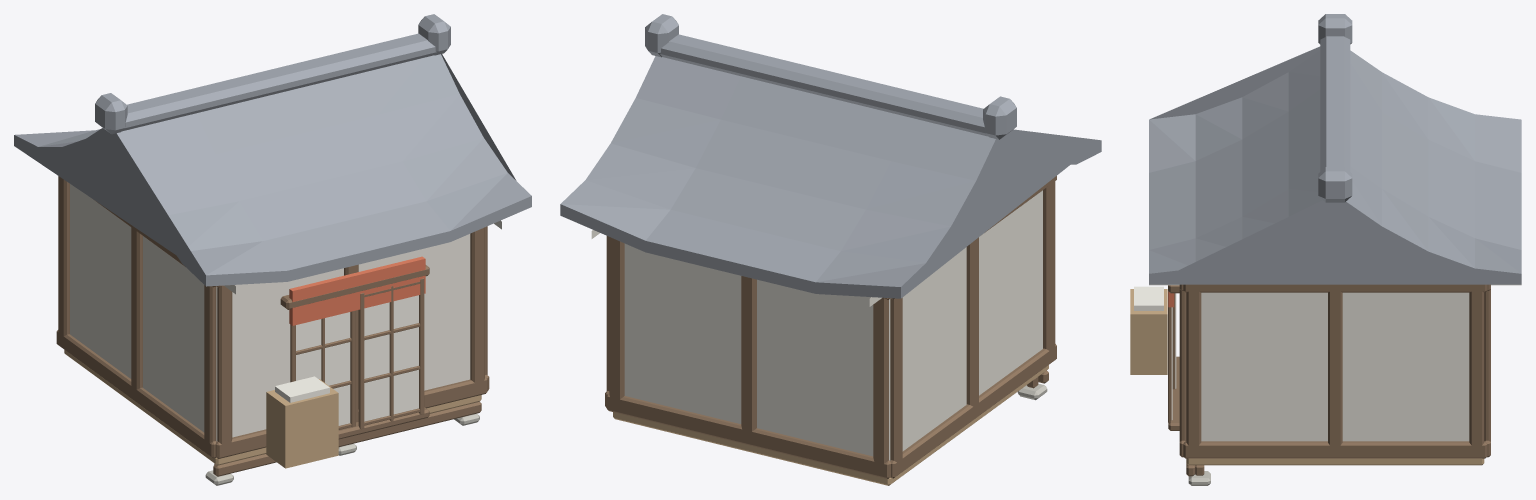
The model's file is silk-merchant.glb.
The picture shows the model from 3 angles, left to right: view 1: azimuth 30°, elevation 25°; view 2: azimuth 150°, elevation 25°; view 3: azimuth 270°, elevation 25°; orthographic projection. The views are drawn at different scales.
Visible parts, largest first — view 1: silk-merchant; view 2: silk-merchant; view 3: silk-merchant.
Boxes of the visible parts, bbox=[...] form: silk-merchant: bbox=[14, 14, 531, 485]; silk-merchant: bbox=[560, 14, 1101, 485]; silk-merchant: bbox=[1130, 14, 1521, 485].
Size of the model in its own units: 5.2 by 4.91 by 5.25.
